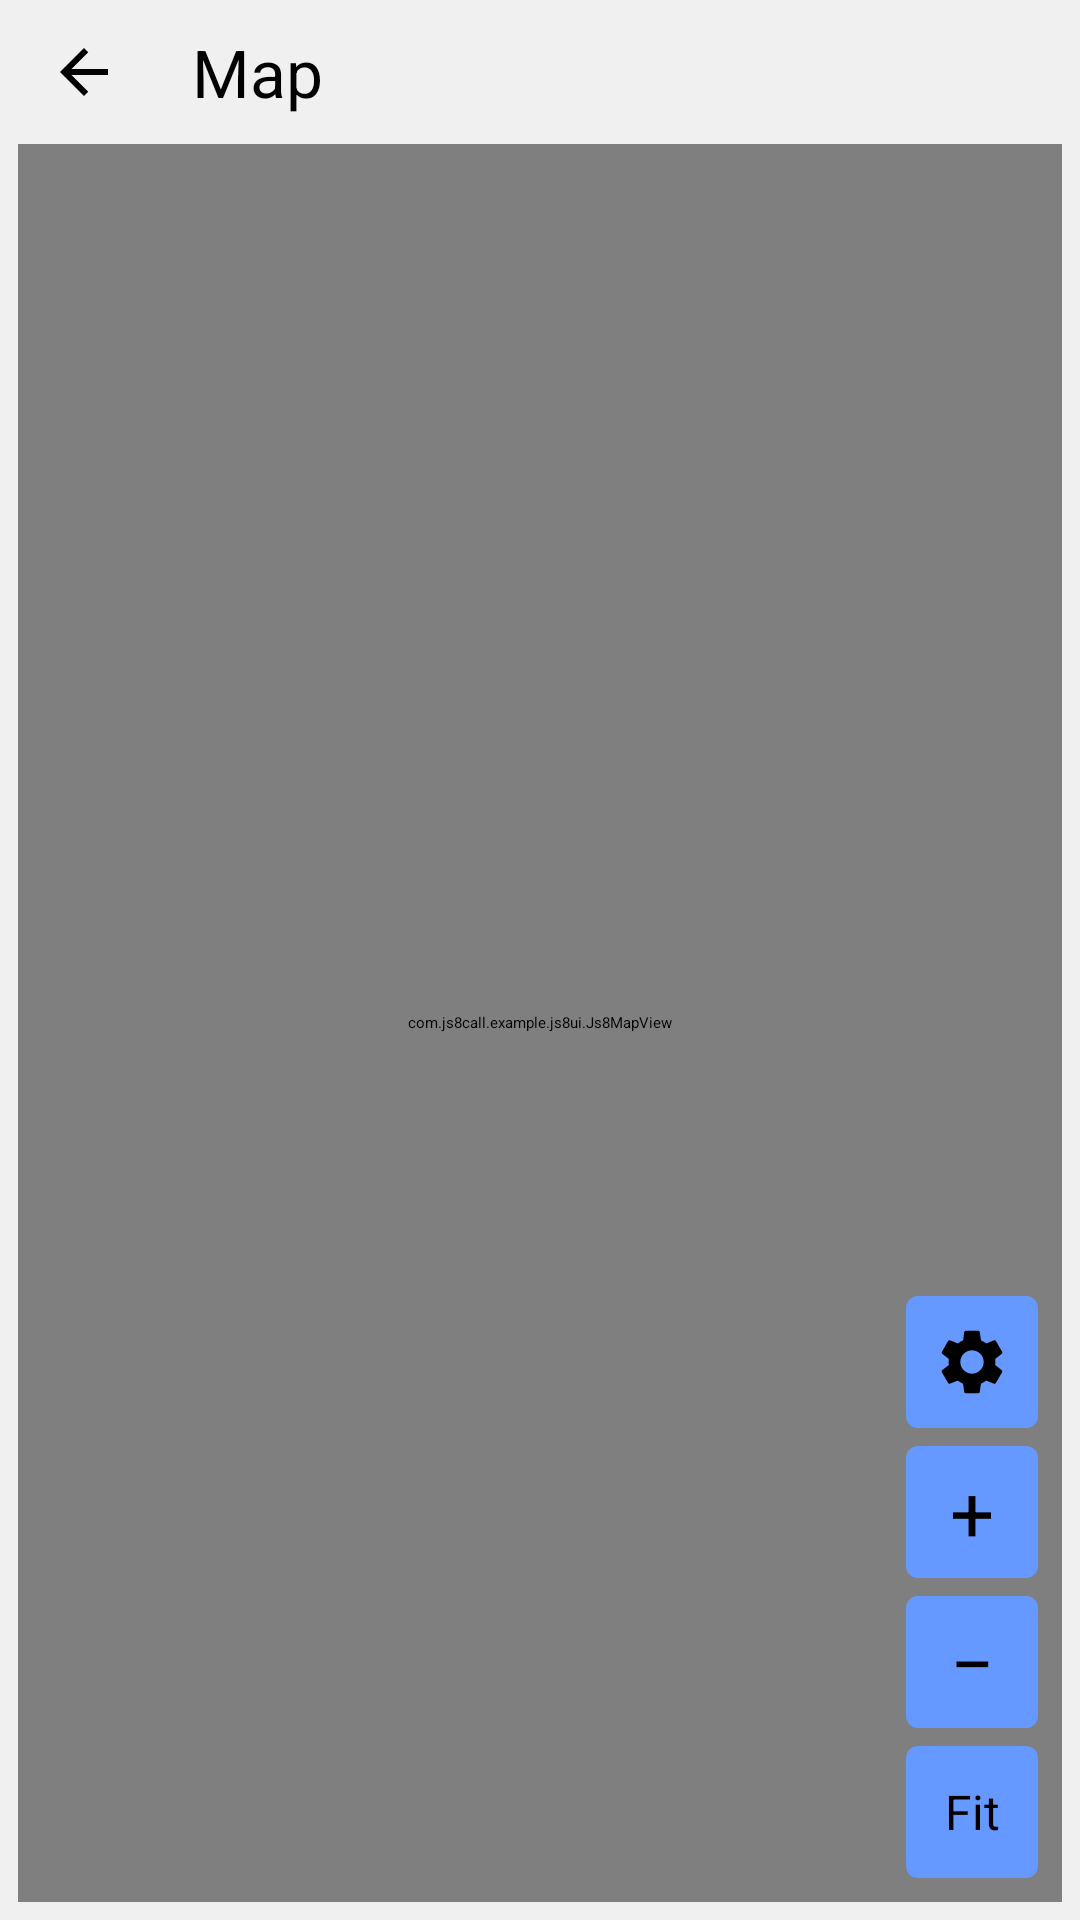

Named icons in this screenshot (1080px x 1920px) and their centers, (x=x, y=y):
Back: (x=84, y=72)
Map options: (x=972, y=1362)
